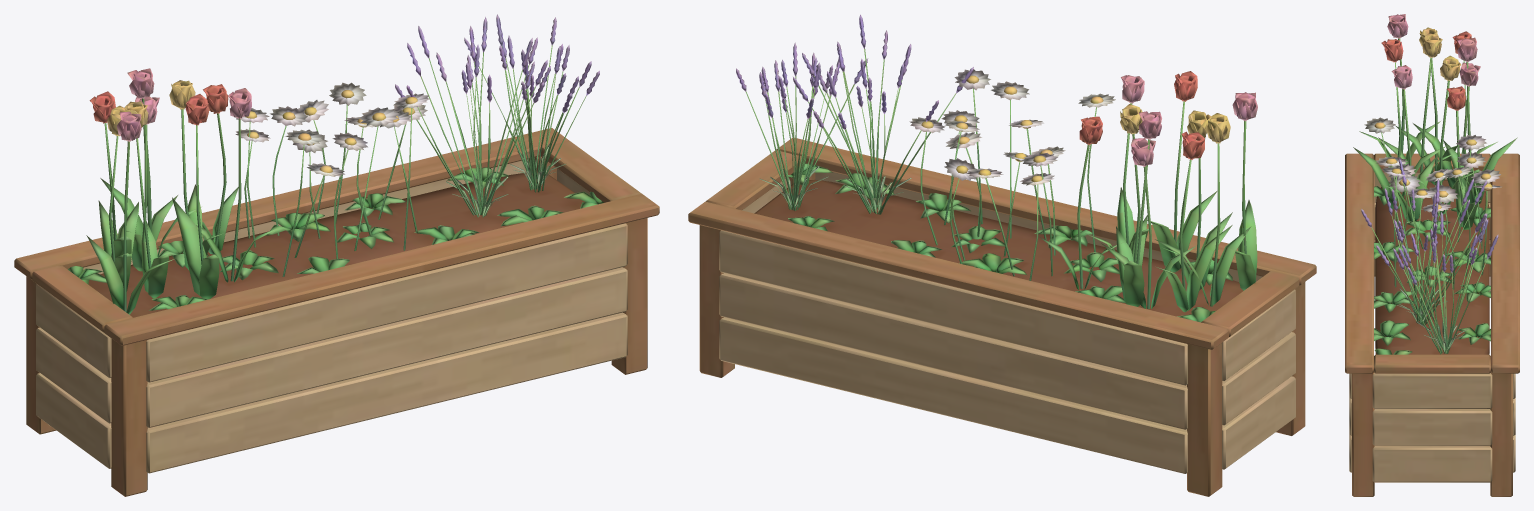
The model's file is flower-planter.glb.
3 renders of one model, left to right at view 1: azimuth 30°, elevation 25°; view 2: azimuth 150°, elevation 25°; view 3: azimuth 270°, elevation 25°, orthographic. The views are drawn at different scales.
Parts seen in each view (by area): view 1: flower-planter_body; view 2: flower-planter_body; view 3: flower-planter_body.
Boxes of the visible parts, x1=… form: flower-planter_body: x1=14, y1=14, x2=659, y2=496; flower-planter_body: x1=688, y1=14, x2=1316, y2=496; flower-planter_body: x1=1345, y1=14, x2=1519, y2=496.
Size of the model in its own units: 1.22 by 0.7745 by 0.4239.
Materials: 1 (1 with a texture image).
